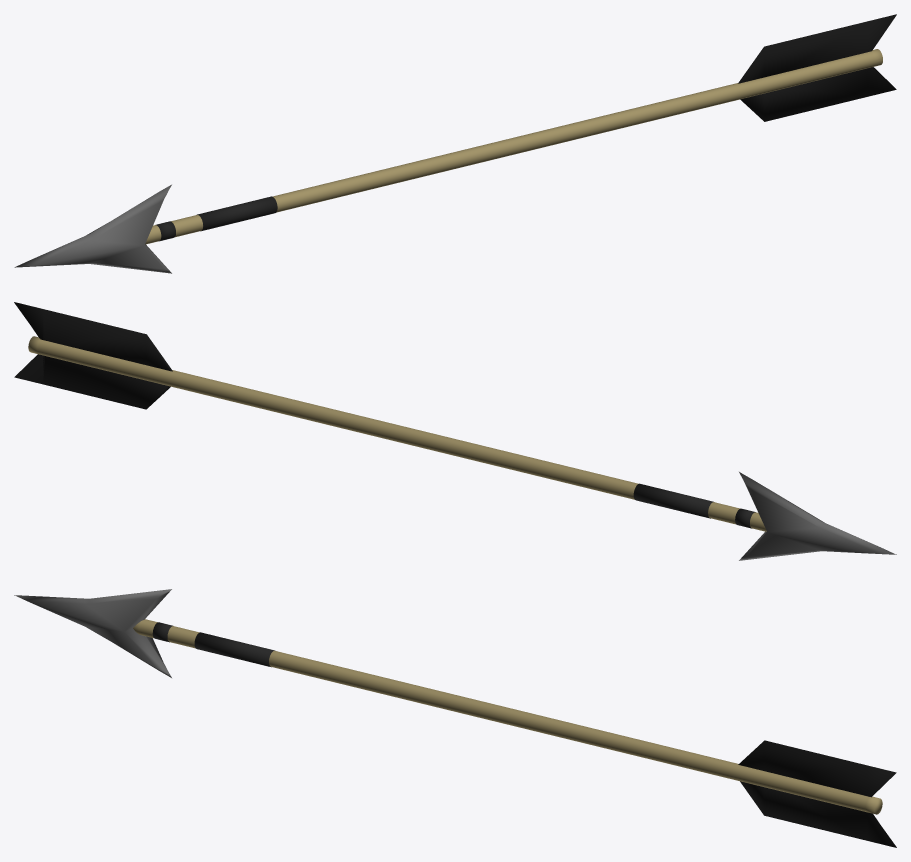
Rendered from arrow.fbx.
3 renders of one model, top to bottom at view 1: azimuth 30°, elevation 25°; view 2: azimuth 150°, elevation 25°; view 3: azimuth 330°, elevation 25°, orthographic.
Visible parts, largest first — view 1: Arrow_Stick, arrow_fletching, Arrow_head, Stick.001; view 2: Arrow_Stick, arrow_fletching, Arrow_head, Stick.001; view 3: Arrow_Stick, arrow_fletching, Arrow_head, Stick.001.
Part boxes in pixels (bbox=[...]): Arrow_Stick: bbox=[145, 49, 882, 244]; arrow_fletching: bbox=[738, 14, 896, 121]; Arrow_head: bbox=[14, 184, 171, 273]; Stick.001: bbox=[156, 196, 277, 241]; Arrow_Stick: bbox=[28, 336, 766, 531]; arrow_fletching: bbox=[14, 302, 172, 409]; Arrow_head: bbox=[739, 472, 896, 560]; Stick.001: bbox=[633, 483, 755, 528]; Arrow_Stick: bbox=[133, 619, 882, 814]; arrow_fletching: bbox=[738, 740, 896, 847]; Arrow_head: bbox=[14, 589, 171, 677]; Stick.001: bbox=[152, 622, 275, 667].
Size of the model in its own units: 1.98 by 0.1916 by 0.0744.
